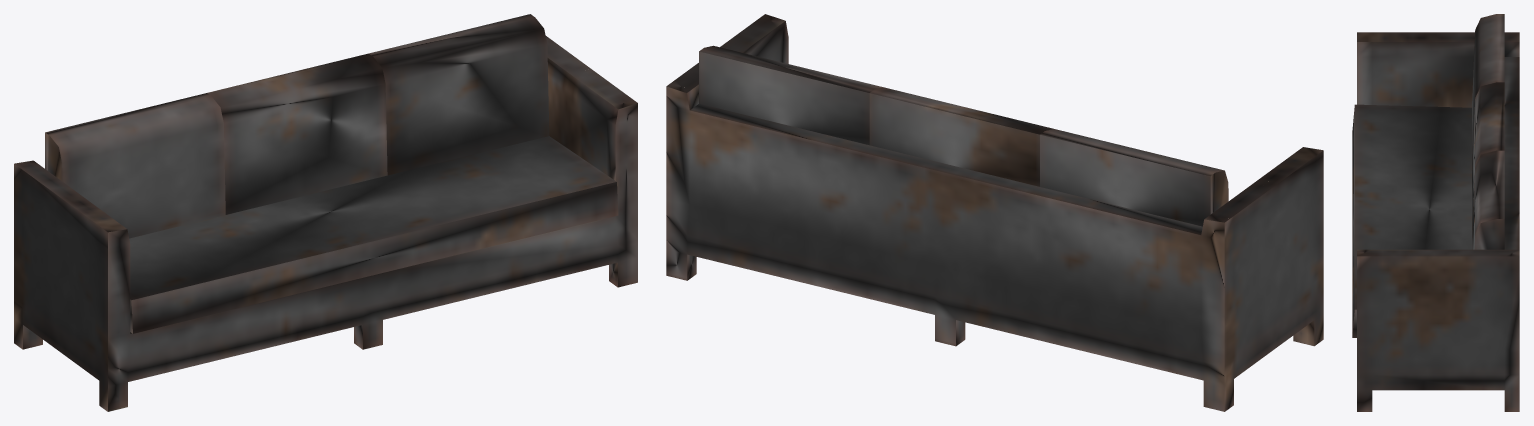
Rendered from old-sofa-s-64c9a2.glb.
3 views of the same model, side by side, from view 1: azimuth 30°, elevation 25°; view 2: azimuth 150°, elevation 25°; view 3: azimuth 270°, elevation 25° (orthographic). The views are drawn at different scales.
Parts seen in each view (by area): view 1: PropMesh; view 2: PropMesh; view 3: PropMesh.
Boxes of the visible parts, bbox=[...] form: PropMesh: bbox=[14, 14, 637, 411]; PropMesh: bbox=[666, 14, 1323, 411]; PropMesh: bbox=[1352, 14, 1519, 411].
Size of the model in its own units: 2.09 by 0.8 by 0.6618.
1 material, 1 textured.
